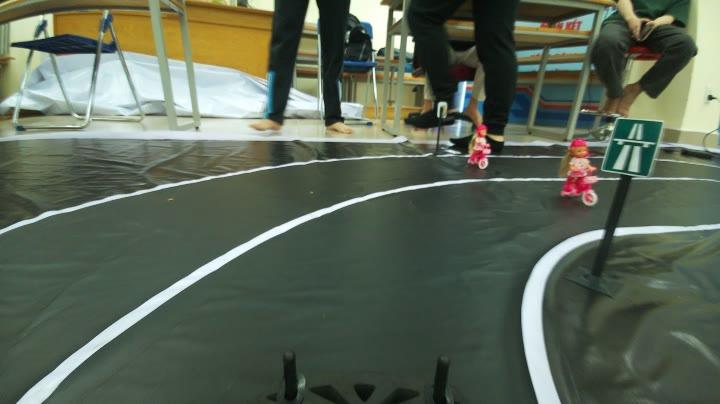highway_entry: (608, 113, 662, 178)
pedestrian: (553, 136, 596, 200), (461, 122, 500, 168)
